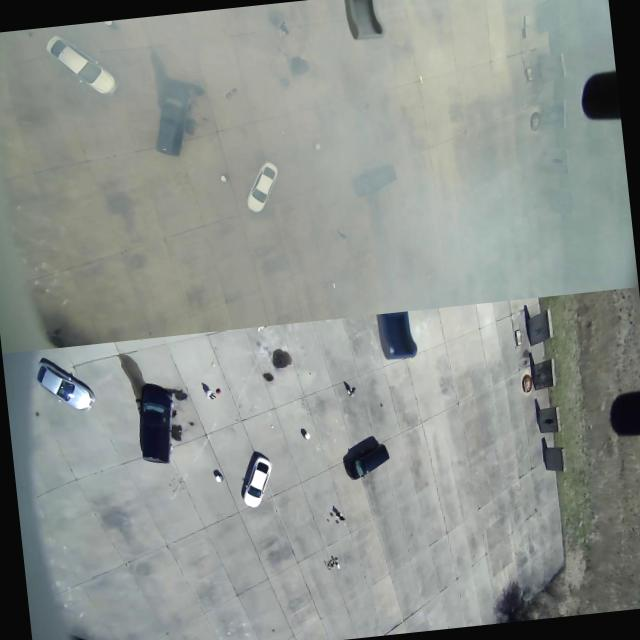car: (46, 30, 117, 94), (30, 351, 97, 414), (236, 447, 274, 508), (342, 440, 391, 480), (244, 162, 280, 212)
